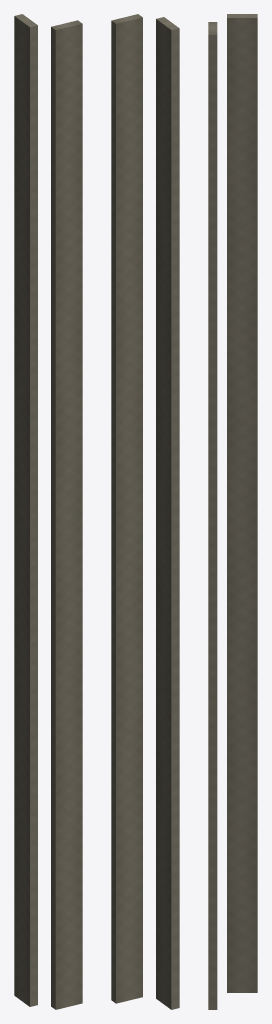
Rendered from MRP_WallCornerTrim_2p8m.fbx.
3 renders of one model, left to right at view 1: azimuth 30°, elevation 25°; view 2: azimuth 210°, elevation 25°; view 3: azimuth 270°, elevation 25°, orthographic.
Visible parts, largest first — view 1: Body; view 2: Body; view 3: Body.
Part boxes in pixels (x1,y1,x2,y2): Body: (14,14,82,1009); Body: (111,14,179,1009); Body: (208,14,257,1009).
Bounding box in the file's own units: 0.129 × 2.8 × 0.129.
